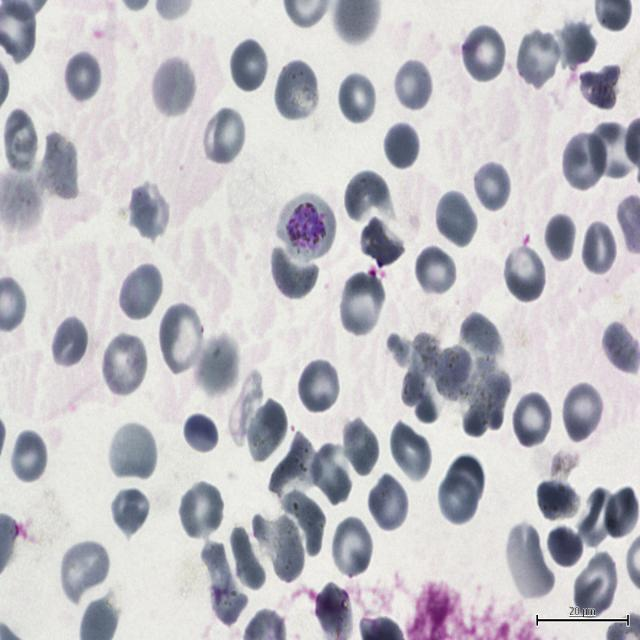red blood cell: (198, 541, 248, 627), (458, 366, 514, 438), (504, 523, 552, 602), (268, 429, 324, 495), (400, 333, 441, 422), (158, 302, 206, 376), (437, 454, 485, 526), (260, 516, 308, 588), (101, 330, 149, 399), (572, 548, 618, 618), (272, 57, 320, 124), (278, 491, 326, 557), (561, 128, 609, 193), (339, 270, 385, 337), (515, 28, 563, 92), (108, 421, 158, 482), (60, 538, 110, 599), (244, 397, 289, 464), (150, 55, 197, 119), (560, 380, 606, 445), (460, 23, 508, 84), (203, 102, 250, 164), (342, 168, 392, 226), (308, 442, 354, 505), (36, 131, 76, 203), (178, 481, 225, 542), (330, 516, 374, 580), (229, 521, 266, 597), (118, 260, 163, 322), (127, 180, 172, 241), (268, 246, 317, 302), (388, 420, 432, 482), (433, 188, 478, 248), (590, 122, 638, 178), (367, 472, 410, 534), (511, 389, 554, 450), (577, 487, 619, 549), (431, 344, 475, 403), (297, 357, 341, 415), (198, 336, 238, 399), (1, 108, 39, 174), (340, 417, 381, 478), (458, 307, 504, 360), (503, 247, 543, 307), (414, 244, 458, 298), (554, 18, 598, 72), (229, 38, 270, 94), (337, 70, 378, 126), (392, 58, 434, 112), (9, 429, 49, 485), (109, 485, 151, 538), (602, 484, 639, 544), (580, 218, 618, 276), (536, 476, 580, 526), (472, 160, 512, 213), (50, 315, 89, 369), (63, 49, 102, 102), (381, 120, 421, 171), (579, 63, 622, 110), (546, 522, 586, 571), (541, 210, 577, 264), (360, 218, 404, 262), (183, 407, 221, 454)
trophozoite: (277, 193, 337, 260)
